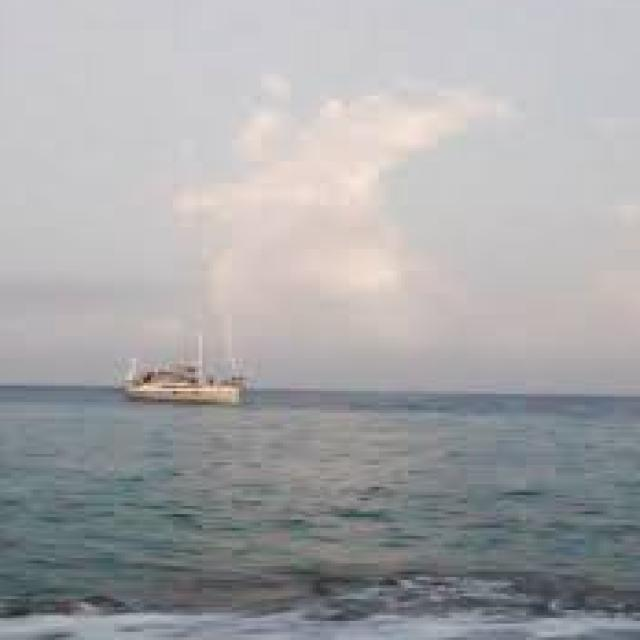passenger ship: (101, 328, 261, 401)
